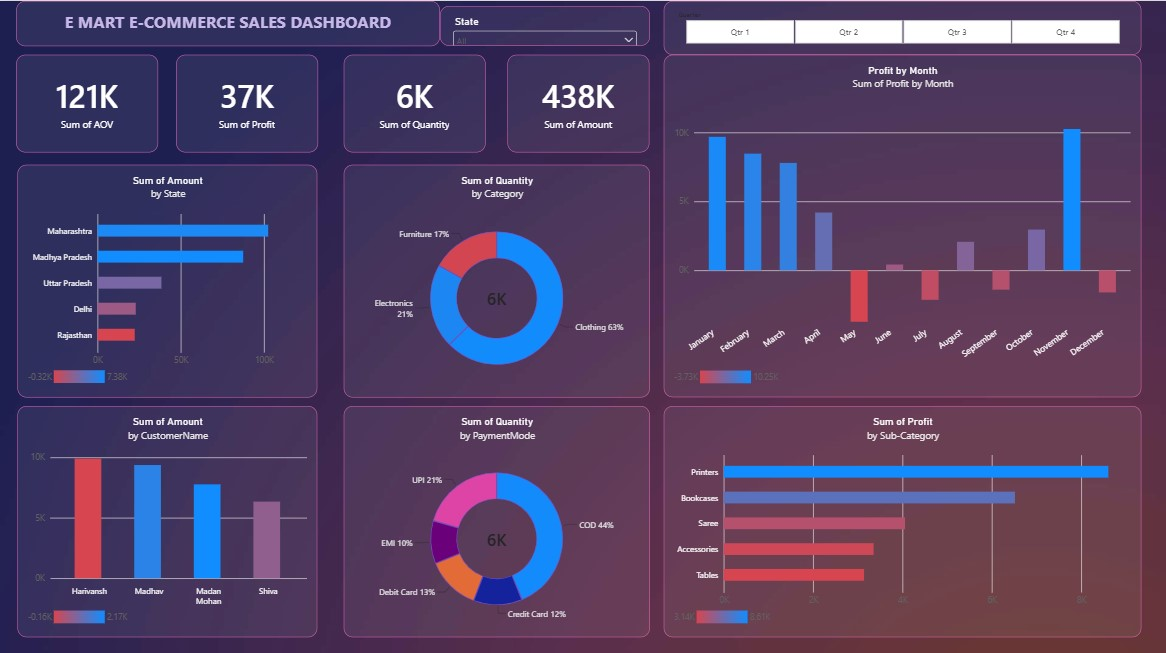

The dashboard page shown, as its layout file describes it:
{"tool":"powerbi","page":{"name":"Page 1","canvas":[1920,1080],"ordinal":0},"visuals":[{"type":"textbox","box":[26.8,0,697.8,74.1],"z":0},{"type":"columnChart","title":"Profit by Month","fields":{"Category":["Orders.Order Date.Variation.Date Hierarchy.Month"],"Y":["Sum(Details.Profit)"]},"box":[1093,88.5,786.3,564],"z":1000},{"type":"barChart","fields":{"Category":["Details.Sub-Category"],"Y":["Sum(Details.Profit)"]},"box":[1093,666.9,786.3,380.8],"z":2000},{"type":"donutChart","fields":{"Category":["Details.Category"],"Y":["Sum(Details.Quantity)"]},"box":[566,269.6,504.3,382.8],"z":3000},{"type":"donutChart","fields":{"Series":["Details.PaymentMode"],"Y":["Sum(Details.Quantity)"]},"box":[566,666.9,504.3,380.8],"z":4000},{"type":"cardVisual","fields":{"Data":["Sum(Details.Amount)"]},"box":[835.7,89.3,233.9,160.7],"z":5000},{"type":"cardVisual","fields":{"Data":["Sum(Details.Quantity)"]},"box":[566,88.5,233.9,160.7],"z":6000},{"type":"cardVisual","fields":{"Data":["Sum(Details.Profit)"]},"box":[290.2,88.5,233.9,160.7],"z":7000},{"type":"cardVisual","fields":{"Data":["Sum(Details.AOV)"]},"box":[26.8,89.3,233.9,160.7],"z":8000},{"type":"barChart","fields":{"Category":["Orders.State"],"Y":["Sum(Details.Amount)"]},"box":[28.8,269.6,494,382.8],"z":8001},{"type":"columnChart","fields":{"Category":["Orders.CustomerName"],"Y":["Sum(Details.Amount)"]},"box":[28.8,666.9,494,380.8],"z":8002},{"type":"slicer","fields":{"Values":["Orders.Order Date.Variation.Date Hierarchy.Quarter"]},"box":[1093,0,786.3,88.5],"z":8003},{"type":"slicer","fields":{"Values":["Orders.State"]},"box":[724.5,8.2,345.8,65.9],"z":8004}]}

Visuals, with their boxes in screenshot pixels (x1, y1, x2, y2), scaled from the page's 1920x1080 canvas onto the 1166x653 screenshot:
textbox: box(16, 0, 440, 45)
"Profit by Month" columnChart: box(664, 54, 1141, 395)
barChart - Details.Sub-Category x Sum(Details.Profit): box(664, 403, 1141, 633)
donutChart - Details.Category x Sum(Details.Quantity): box(344, 163, 650, 394)
donutChart - Details.PaymentMode x Sum(Details.Quantity): box(344, 403, 650, 633)
cardVisual - Sum(Details.Amount): box(508, 54, 650, 151)
cardVisual - Sum(Details.Quantity): box(344, 54, 486, 151)
cardVisual - Sum(Details.Profit): box(176, 54, 318, 151)
cardVisual - Sum(Details.AOV): box(16, 54, 158, 151)
barChart - Orders.State x Sum(Details.Amount): box(17, 163, 317, 394)
columnChart - Orders.CustomerName x Sum(Details.Amount): box(17, 403, 317, 633)
slicer - Orders.Order Date.Variation.Date Hierarchy.Quarter: box(664, 0, 1141, 54)
slicer - Orders.State: box(440, 5, 650, 45)
